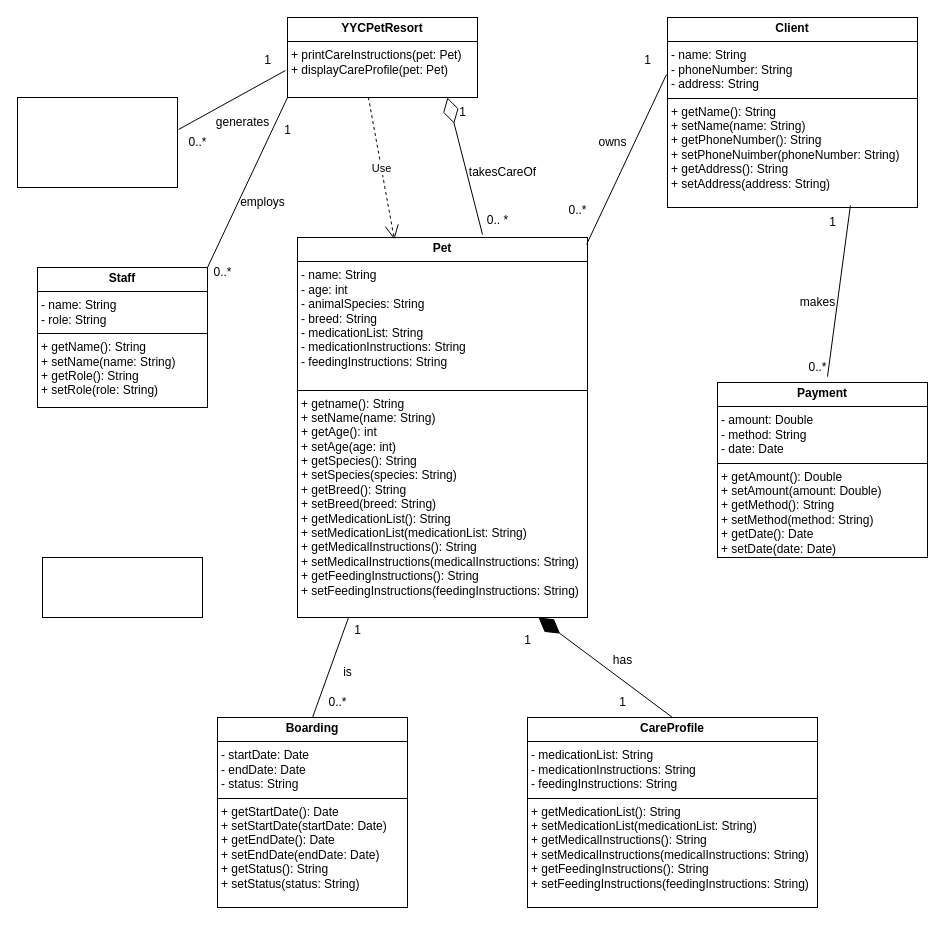
The diagram is 945 pixels wide and 925 high, and some of its shapes have lost their labels. The shapes that lost their labels are listed below. From the top down, each one's centre as x and y in pixels, then its label:
the point at 97,142: Report - content: String + getContent(): String + setContent(content: String)
the point at 122,587: Application + main(String[a] args) void
